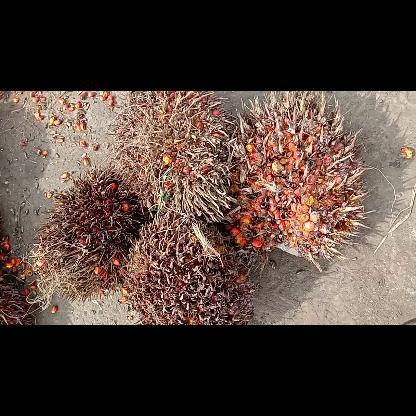Terlalu masak: (229, 90, 375, 272), (26, 163, 148, 309), (109, 90, 237, 222), (124, 212, 252, 324)
